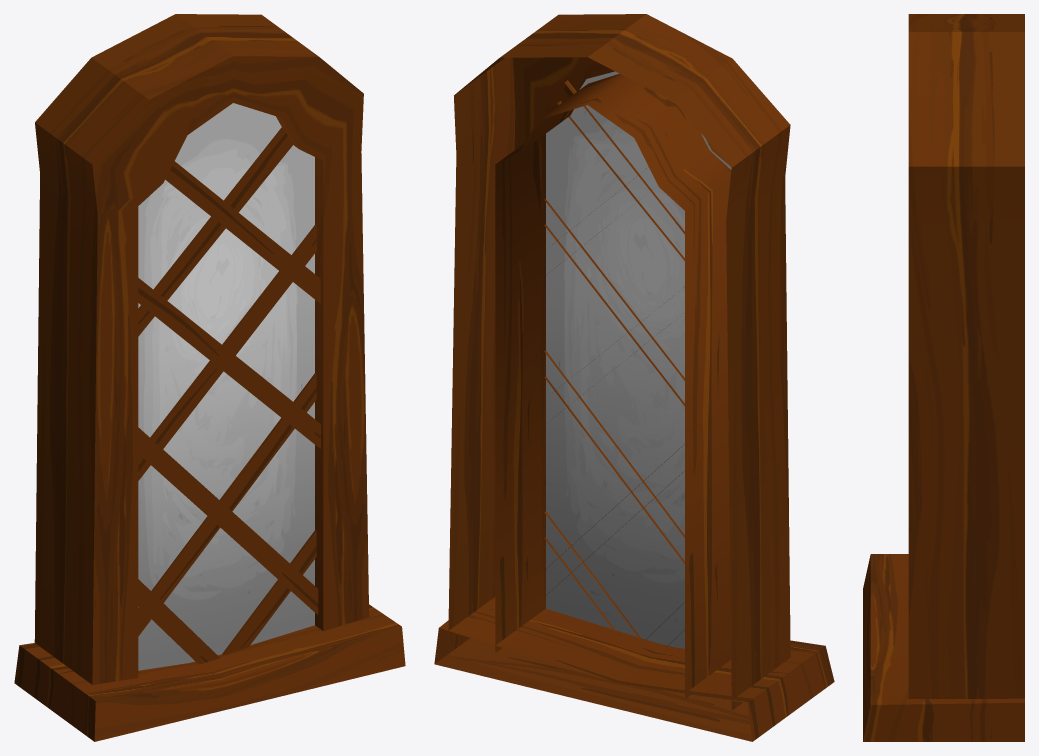
File: MOD_Window_interior_01.fbx
The picture shows the model from 3 angles, left to right: view 1: azimuth 30°, elevation 25°; view 2: azimuth 150°, elevation 25°; view 3: azimuth 270°, elevation 25°; orthographic projection. The views are drawn at different scales.
Visible parts, largest first — view 1: MOD_Window_interior_01; view 2: MOD_Window_interior_01; view 3: MOD_Window_interior_01.
Boxes of the visible parts, x1,y1,x2,y2 form: MOD_Window_interior_01: (14,14,405,741); MOD_Window_interior_01: (434,14,834,741); MOD_Window_interior_01: (863,14,1024,741).
Size of the model in its own units: 128 by 247 by 56.93.
